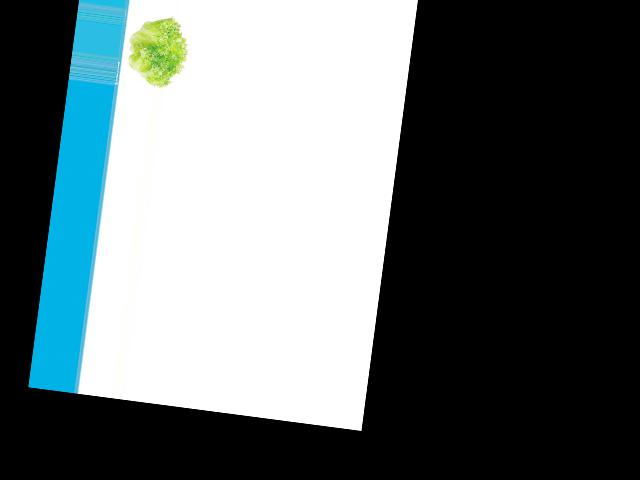lettuce: (119, 13, 193, 90)
